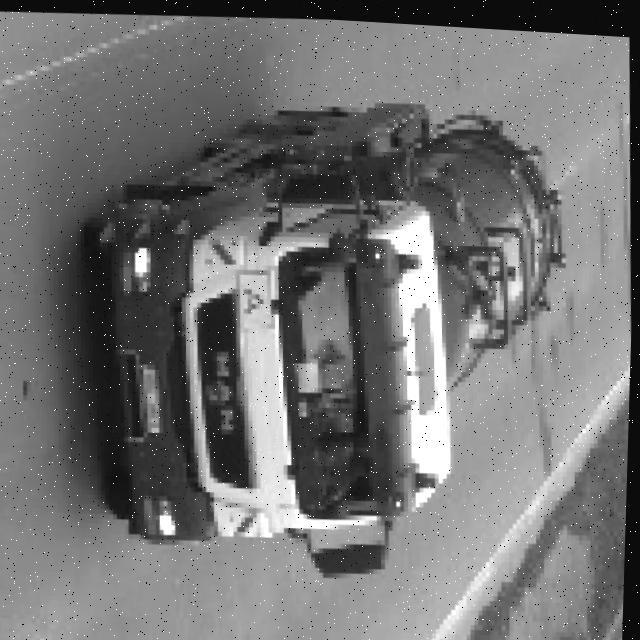truck: (76, 83, 584, 597)
